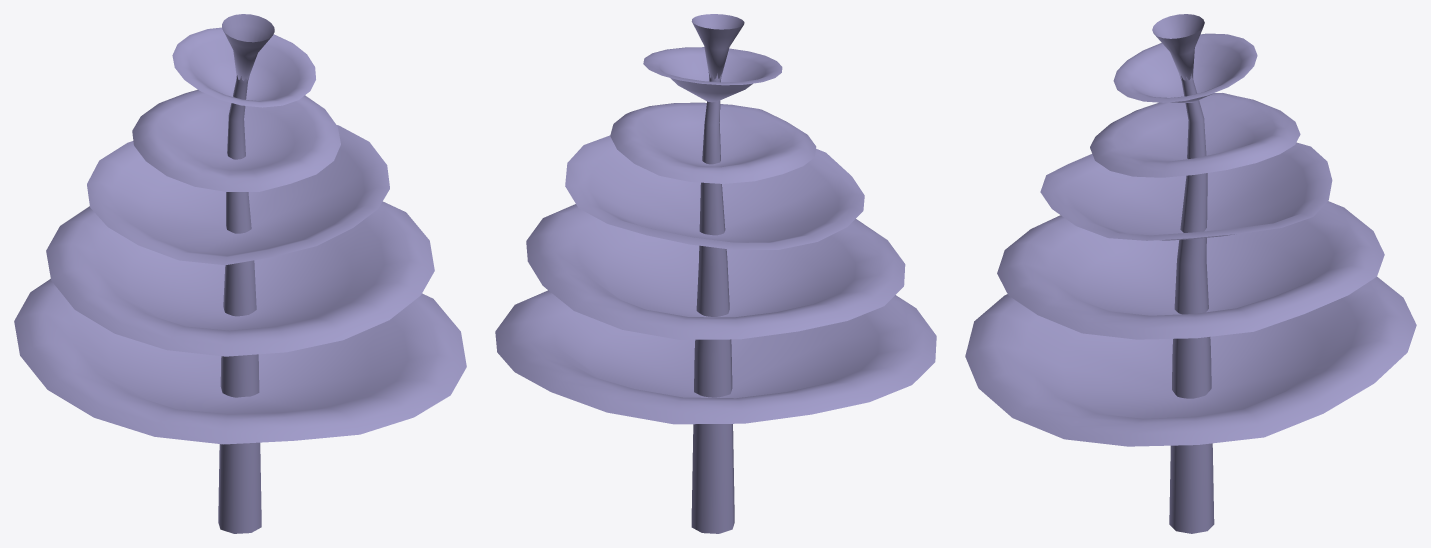
The model's file is SM_ocean_christmas_treeWorm_02.fbx.
3 views of the same model, side by side, from view 1: azimuth 30°, elevation 25°; view 2: azimuth 150°, elevation 25°; view 3: azimuth 270°, elevation 25° (orthographic).
Parts seen in each view (by area): view 1: SM_ocean_christmas_treeWorm_02_LOD0; view 2: SM_ocean_christmas_treeWorm_02_LOD0; view 3: SM_ocean_christmas_treeWorm_02_LOD0.
Boxes of the visible parts, x1=… form: SM_ocean_christmas_treeWorm_02_LOD0: x1=14, y1=14, x2=466, y2=533; SM_ocean_christmas_treeWorm_02_LOD0: x1=495, y1=14, x2=936, y2=533; SM_ocean_christmas_treeWorm_02_LOD0: x1=965, y1=14, x2=1416, y2=533.
Size of what is drawn, in the model's own units: 22.09 by 22.07 by 27.1.
